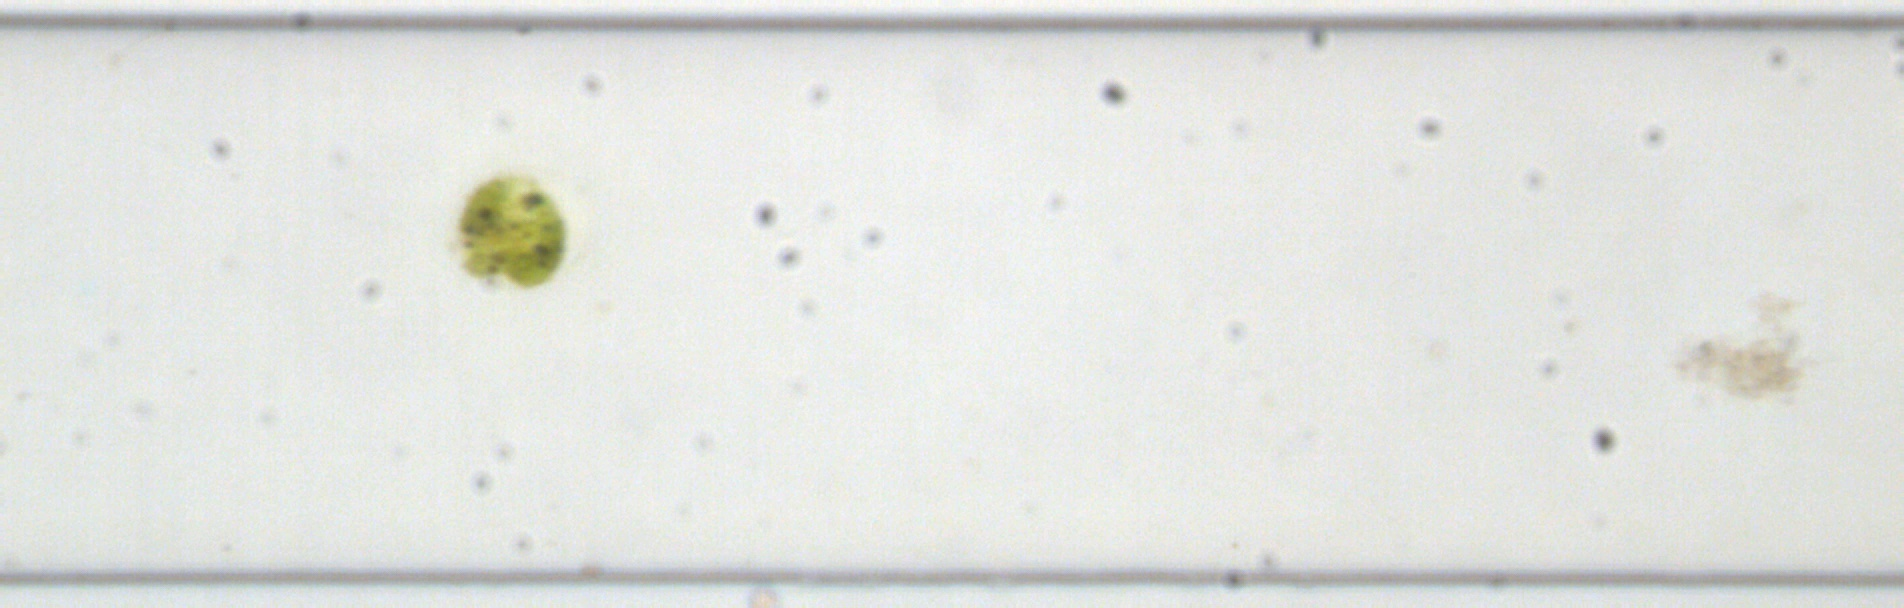Haematococcus: (454, 171, 569, 288)
